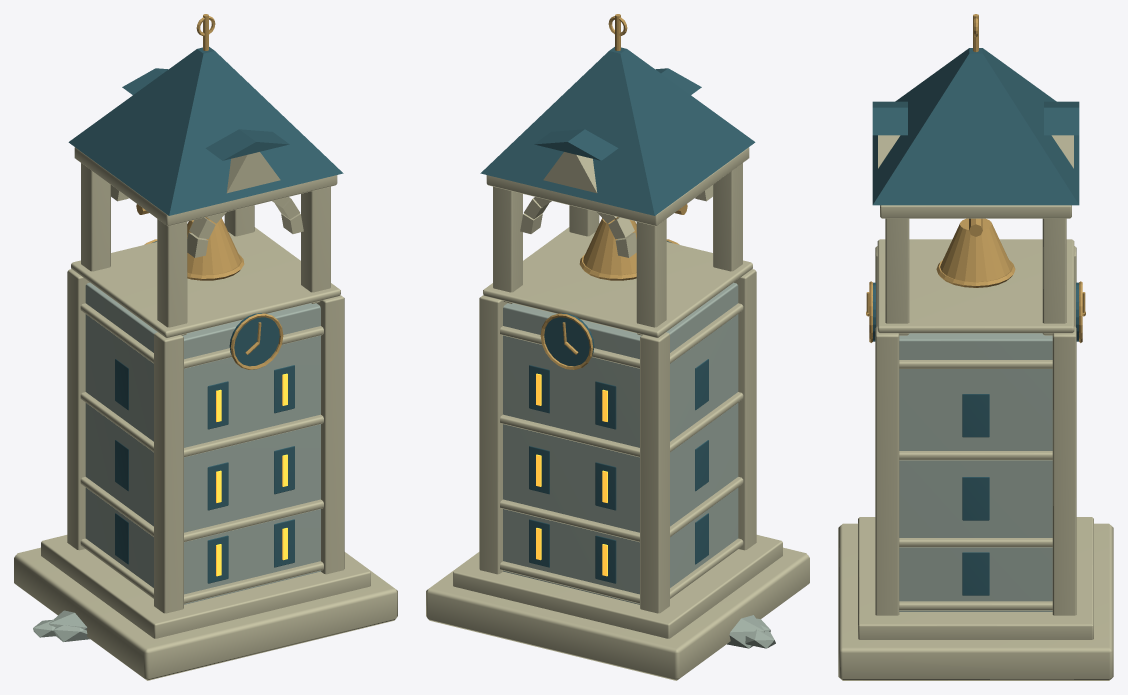
The model's file is world-bell-tower.glb.
3 views of the same model, side by side, from view 1: azimuth 30°, elevation 25°; view 2: azimuth 150°, elevation 25°; view 3: azimuth 270°, elevation 25° (orthographic). The views are drawn at different scales.
Visible parts, largest first — view 1: world-bell-tower / Old harbor sandstone, world-bell-tower / Drowned limestone, world-bell-tower / Prussian slate, world-bell-tower / Weathered maritime brass, world-bell-tower / Sulphur amber light; view 2: world-bell-tower / Old harbor sandstone, world-bell-tower / Drowned limestone, world-bell-tower / Prussian slate, world-bell-tower / Weathered maritime brass, world-bell-tower / Sulphur amber light; view 3: world-bell-tower / Old harbor sandstone, world-bell-tower / Drowned limestone, world-bell-tower / Prussian slate, world-bell-tower / Weathered maritime brass.
Boxes of the visible parts, <box> form: world-bell-tower / Old harbor sandstone: <box>14,147,397,680</box>; world-bell-tower / Drowned limestone: <box>33,282,320,641</box>; world-bell-tower / Prussian slate: <box>68,47,343,583</box>; world-bell-tower / Weathered maritime brass: <box>136,14,283,369</box>; world-bell-tower / Sulphur amber light: <box>216,373,287,576</box>; world-bell-tower / Old harbor sandstone: <box>426,147,809,680</box>; world-bell-tower / Drowned limestone: <box>503,282,775,648</box>; world-bell-tower / Prussian slate: <box>480,47,755,583</box>; world-bell-tower / Weathered maritime brass: <box>540,14,687,369</box>; world-bell-tower / Sulphur amber light: <box>536,373,607,576</box>; world-bell-tower / Old harbor sandstone: <box>838,135,1113,680</box>; world-bell-tower / Drowned limestone: <box>899,333,1052,611</box>; world-bell-tower / Prussian slate: <box>872,48,1079,595</box>; world-bell-tower / Weathered maritime brass: <box>866,14,1085,342</box>.
Bounding box in the file's own units: 7.93 × 15.51 × 6.3.
